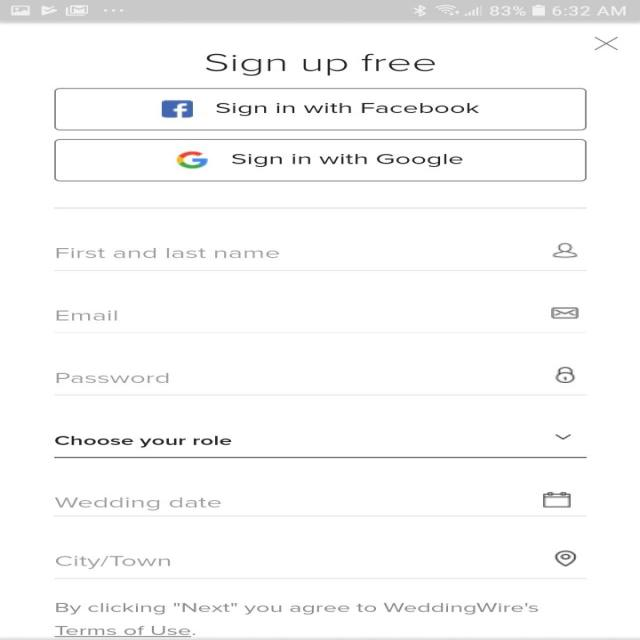EditText: (53, 366, 586, 396), (53, 242, 587, 271), (53, 550, 586, 579), (53, 307, 587, 333), (53, 491, 587, 517), (53, 434, 587, 458)
Icon: (542, 491, 571, 508), (551, 242, 578, 258), (554, 550, 576, 566), (593, 36, 618, 50), (550, 307, 579, 319), (554, 367, 574, 383), (554, 434, 570, 439)
Text: (53, 602, 538, 637), (205, 53, 435, 76), (55, 496, 221, 511), (56, 248, 279, 259), (54, 436, 231, 448), (56, 555, 171, 569), (56, 372, 169, 383), (55, 310, 117, 320)
TextButton: (53, 138, 587, 182), (53, 88, 586, 130)
